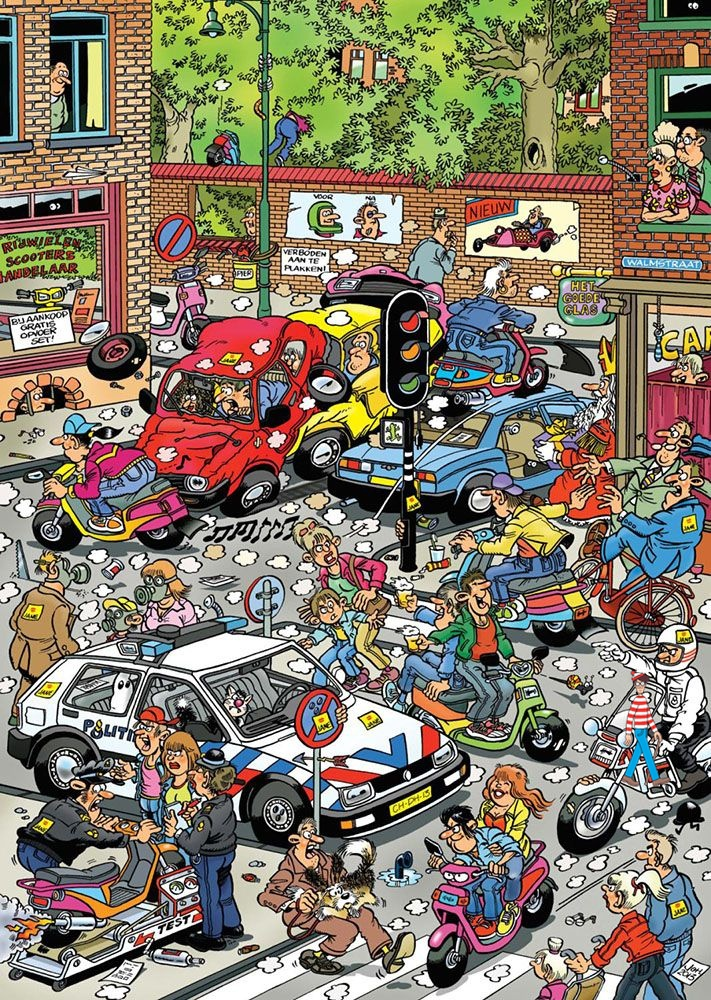waldo: (621, 670, 671, 787)
